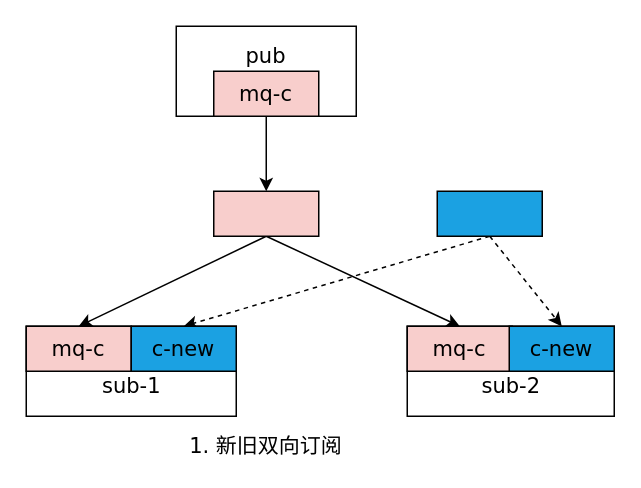
Image size: 641x488. Some labels were removed from this diagram. Here are the shapes that lost their labels. From the top down, the box of each, then its label:
(212, 190, 319, 236): mq-s
(436, 190, 542, 236): s-new
